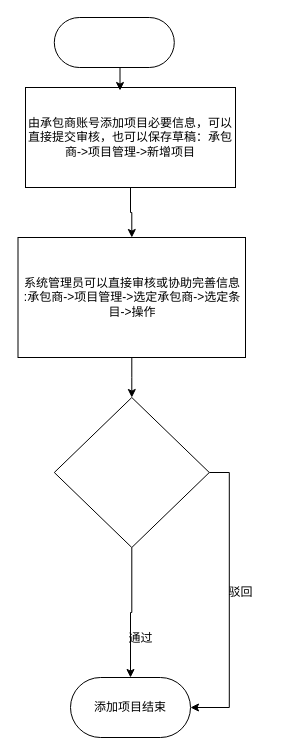
The diagram is 282 pixels wide and 755 high, and some of its shapes have lost their labels. The shapes that lost their labels are listed below. From the top down, each one's centre as x and y in pixels, then its label:
At point (113, 42): "承包商项目开始".
At point (131, 472): "管理员审核项目".
